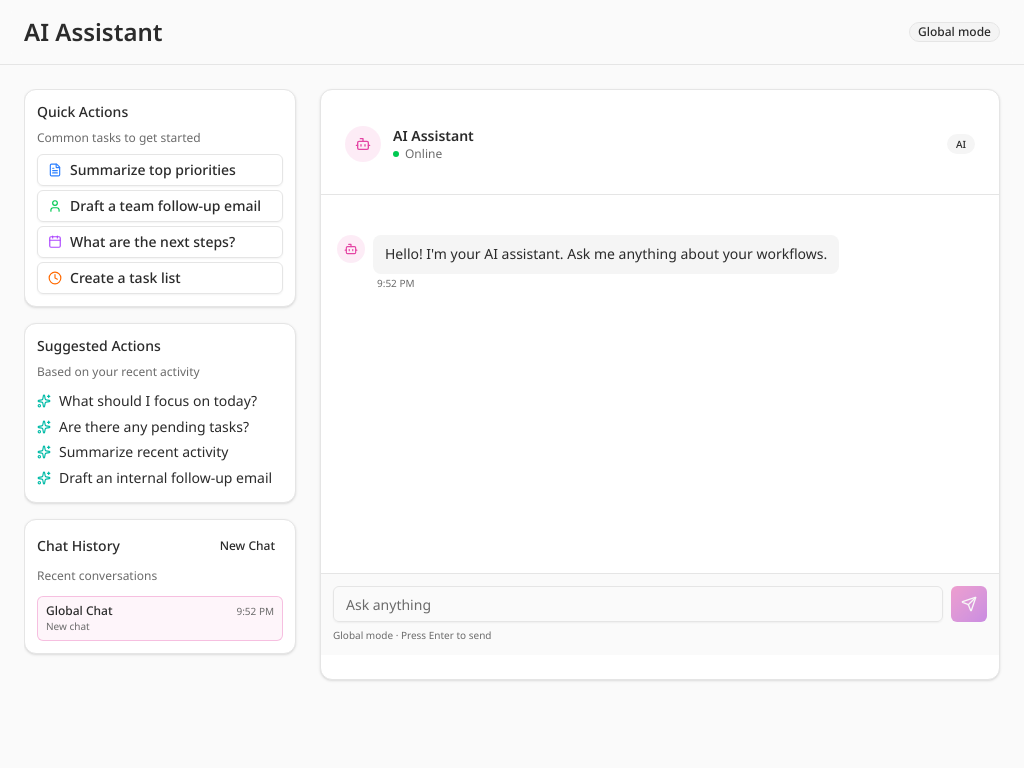
Scenario: AIAssistantPage › renders streamed assistant Markdown as rich text
Type "Analyze conversion" into the field.
click(638, 604); type("Analyze conversion")  # box x1=333 y1=586 x2=943 y2=622
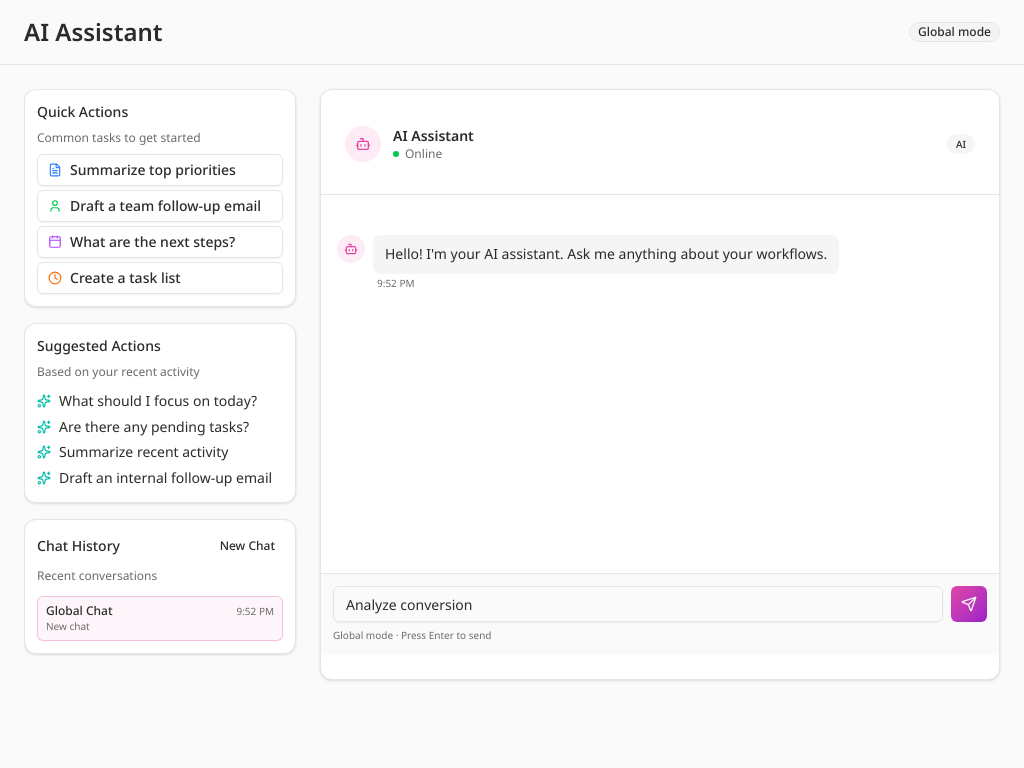
Press Enter in the field, box x1=333 y1=586 x2=943 y2=622
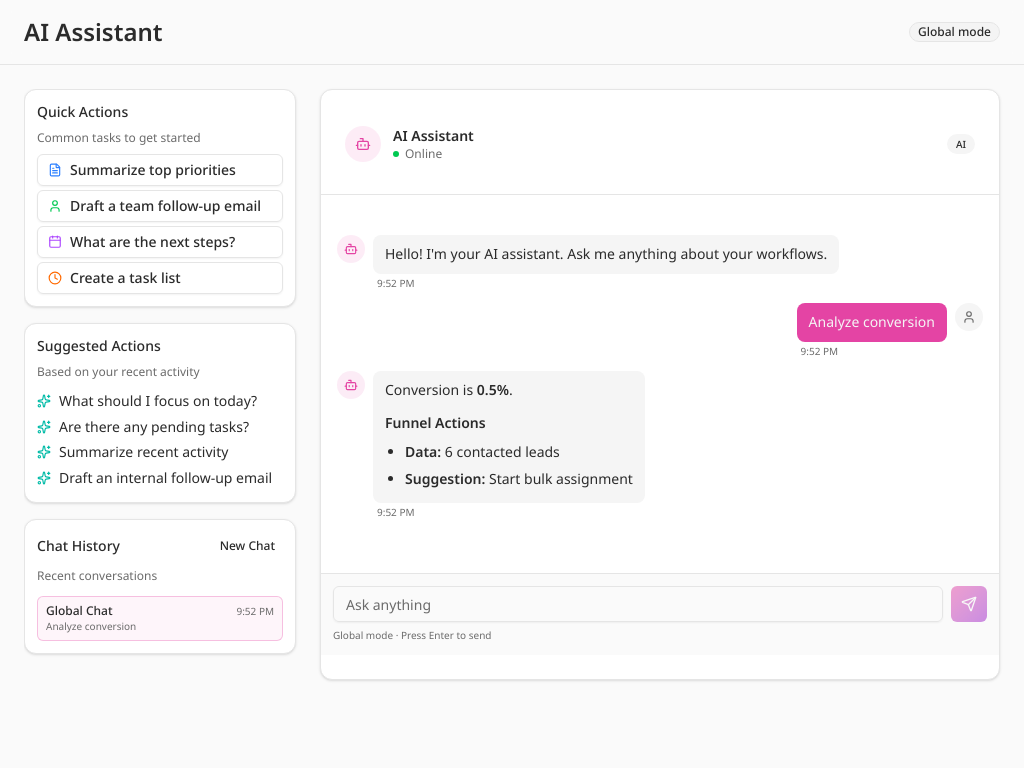
Check: the text "0.5%" is shown, box x1=477 y1=380 x2=509 y2=398
Check: the heading "Funnel Actions" is shown, box x1=385 y1=413 x2=486 y2=432
Check: the text "Data:" is shown, box x1=405 y1=442 x2=441 y2=461
